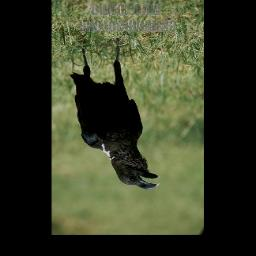Crow: (67, 33, 163, 193)
